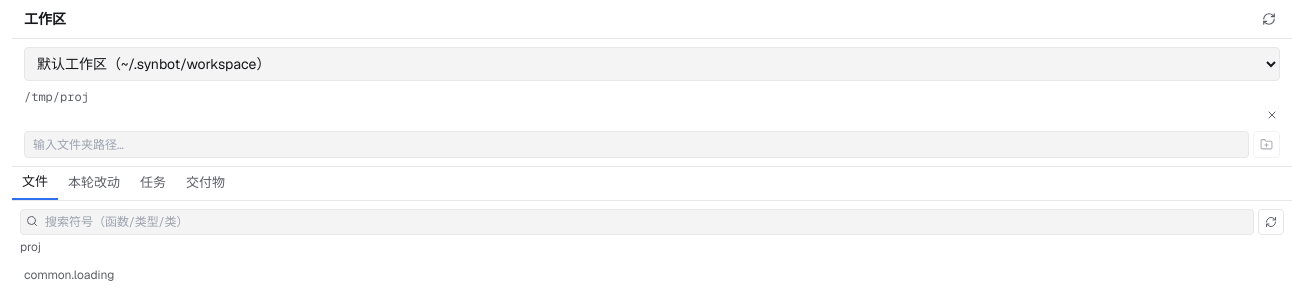
Scenario: ProjectPanel checkpoint view › lists generated documents in the deliverables tab
Click the button "交付物". click: (206, 183)
box: [176,167,235,200]
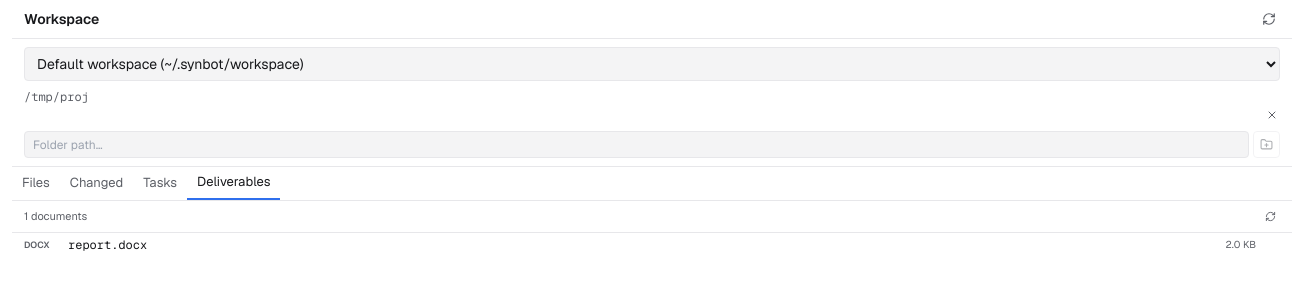
Expected: the text "report.docx" is shown, [68,237,147,253]
